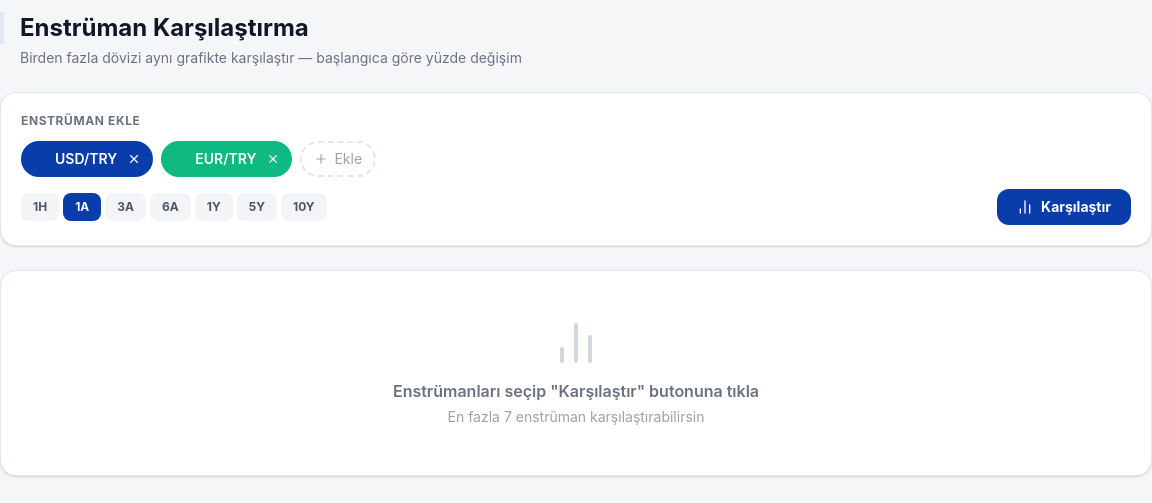
Test: ComparePage (FX enstrüman karşılaştırma) — jsdom + testing-library › öneri panelinde aramayla filtreler; eşleşme yoksa "Sonuç bulunamadı" gösterir
The width and height of the screenshot is (1152, 503).
Click the button "Ekle" at (338, 159), box 300,141 -> 376,177
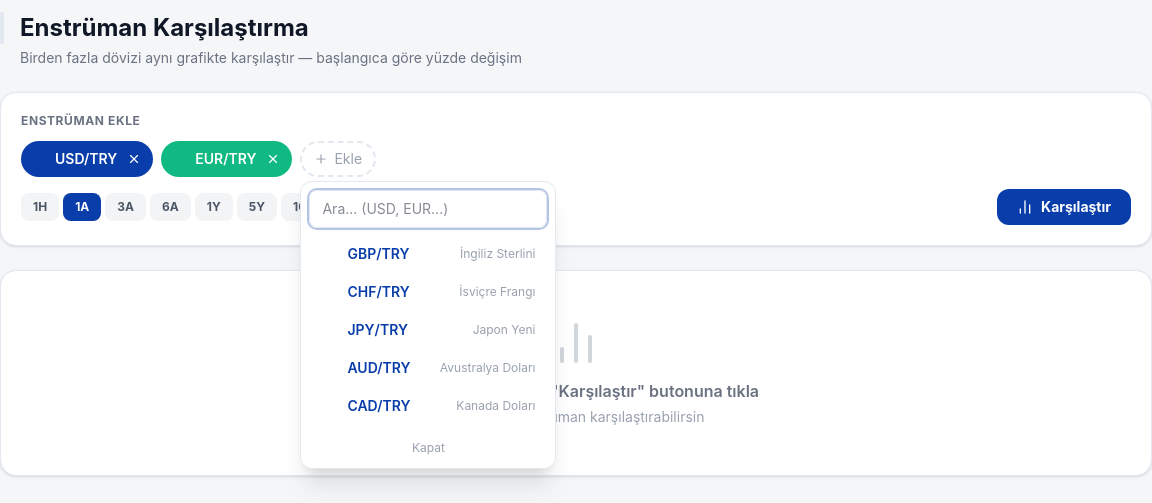
Type "ZZZZ" into the field with placeholder "Ara... (USD, EUR...)" at (428, 209), box 310,190 -> 548,228
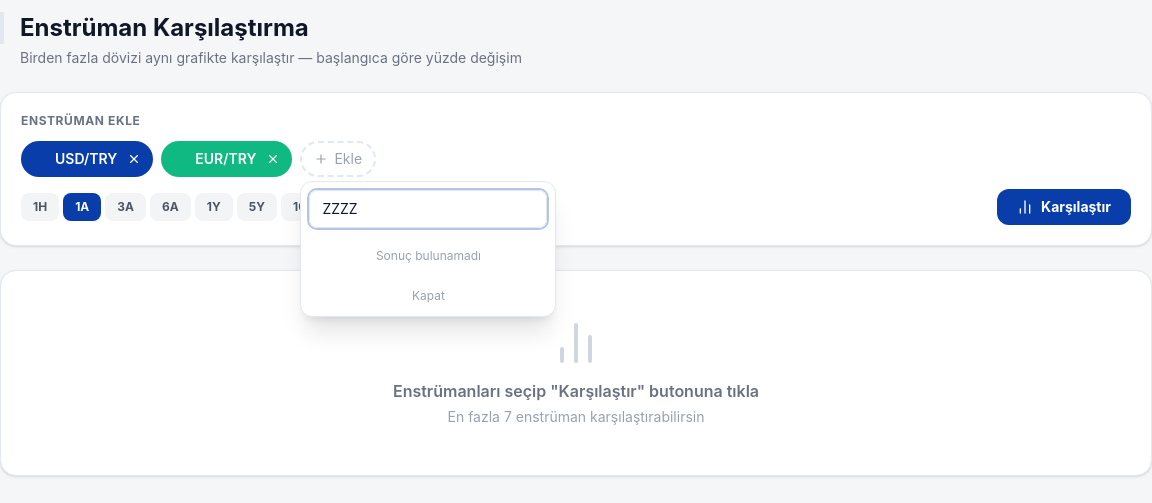
Expected: the text "Sonuç bulunamadı" is shown, 376,248 -> 481,263
